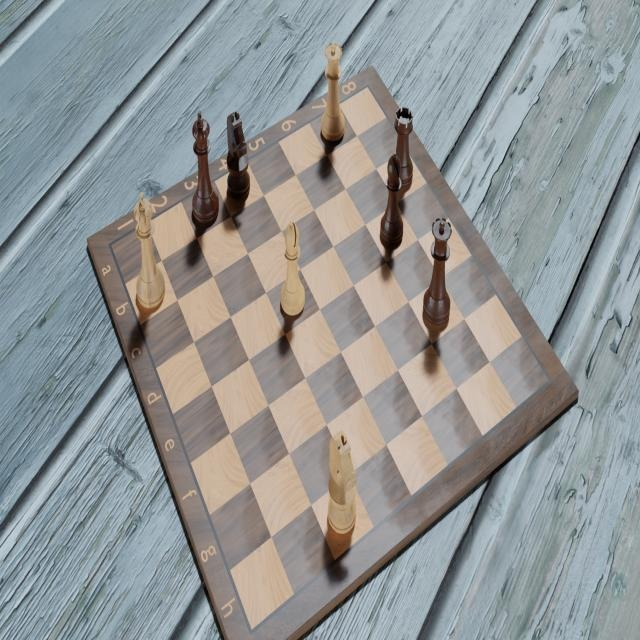black-bishop: (380, 151, 404, 252)
black-king: (189, 110, 220, 229)
black-knight: (224, 111, 251, 205)
black-queen: (421, 215, 455, 329)
black-rook: (389, 104, 416, 190)
white-bishop: (278, 216, 308, 319)
white-king: (134, 187, 166, 317)
white-knight: (324, 430, 360, 538)
white-queen: (318, 40, 346, 147)
